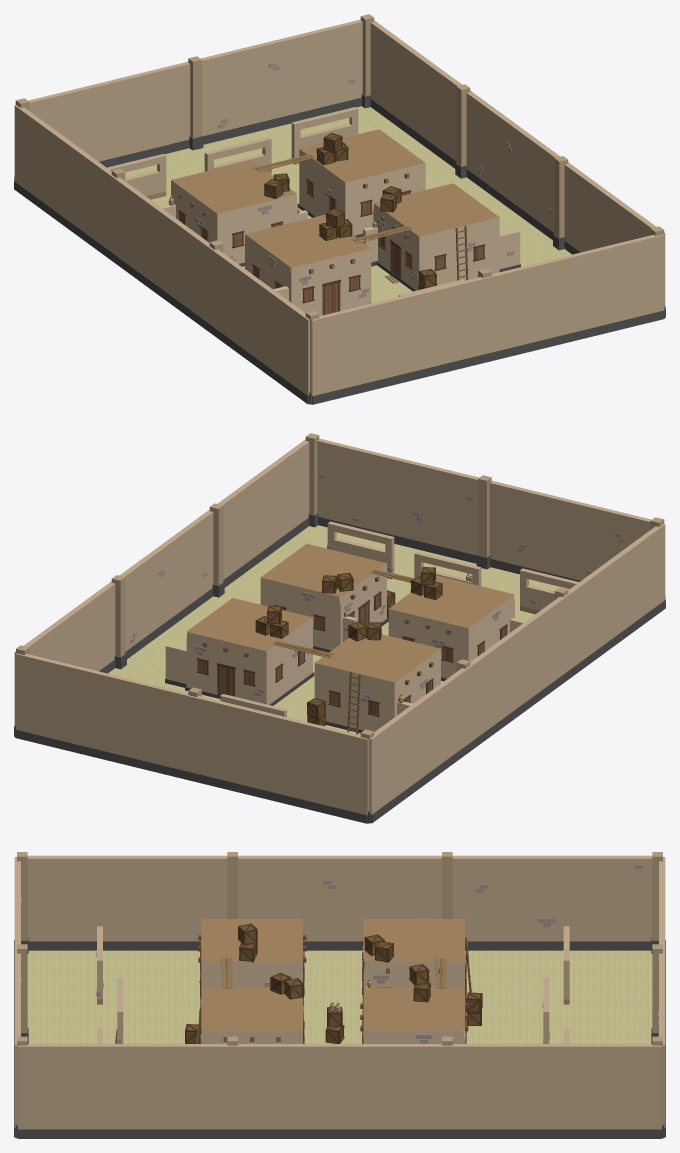
The model's file is OutsideMap.glb.
The picture shows the model from 3 angles, top to bottom: view 1: azimuth 30°, elevation 25°; view 2: azimuth 150°, elevation 25°; view 3: azimuth 270°, elevation 25°; orthographic projection. The views are drawn at different scales.
Parts seen in each view (by area): view 1: Wall_06 (2), Wall_06 (1), Wall_06, Wall_03, Building_01 (1), GroundPlane, Wall_03 (4), Building_01, Wall_06 (4), Wall_06 (5), Wall_06 (3), Building_01 (3) (+11 smaller); view 2: Wall_03, Wall_06, Wall_06 (1), Wall_06 (2), Building_01 (3), GroundPlane, Wall_06 (5), Wall_06 (4), Wall_03 (4), Building_01 (2), Building_01 (1), Wall_06 (3) (+11 smaller); view 3: GroundPlane, Wall_06 (3), Wall_03 (2), Wall_03 (1), Wall_06 (5), Wall_03 (4), Wall_06 (4), Building_01, Building_01 (2), Building_01 (3), Building_01 (1), Wall_06 (1) (+13 smaller).
Part boxes in pixels (<box>): Wall_06 (2): <box>311,277,488,404</box>; Wall_06 (1): <box>487,234,664,361</box>; Wall_06: <box>200,19,362,144</box>; Wall_03: <box>28,61,190,167</box>; Building_01 (1): <box>373,183,499,291</box>; GroundPlane: <box>125,106,571,303</box>; Wall_03 (4): <box>210,248,309,404</box>; Building_01: <box>245,214,371,315</box>; Wall_06 (4): <box>112,176,211,332</box>; Wall_06 (5): <box>14,105,113,260</box>; Wall_06 (3): <box>466,90,560,239</box>; Building_01 (3): <box>297,129,425,237</box>; Wall_03: <box>191,696,368,823</box>; Wall_06: <box>15,653,192,780</box>; Wall_06 (1): <box>317,438,479,563</box>; Wall_06 (2): <box>489,480,651,581</box>; Building_01 (3): <box>185,598,314,705</box>; GroundPlane: <box>108,525,569,734</box>; Wall_06 (5): <box>370,667,469,823</box>; Wall_06 (4): <box>468,595,567,751</box>; Wall_03 (4): <box>566,524,665,679</box>; Building_01 (2): <box>314,634,440,733</box>; Building_01 (1): <box>260,544,387,652</box>; Wall_06 (3): <box>119,509,213,658</box>; GroundPlane: <box>14,950,652,1137</box>; Wall_06 (3): <box>232,1044,447,1138</box>; Wall_03 (2): <box>18,1044,232,1138</box>; Wall_03 (1): <box>447,1044,661,1138</box>; Wall_06 (5): <box>452,855,652,950</box>; Wall_03 (4): <box>27,855,227,950</box>; Wall_06 (4): <box>238,855,441,950</box>; Building_01: <box>198,919,306,1020</box>; Building_01 (2): <box>362,919,466,1020</box>; Building_01 (3): <box>360,987,468,1043</box>; Building_01 (1): <box>200,987,304,1043</box>; Wall_06 (1): <box>14,951,20,1137</box>.
Bounding box in the file's own units: 0.2236 × 0.0528 × 0.3215.
Materials: 2 (2 with a texture image).
